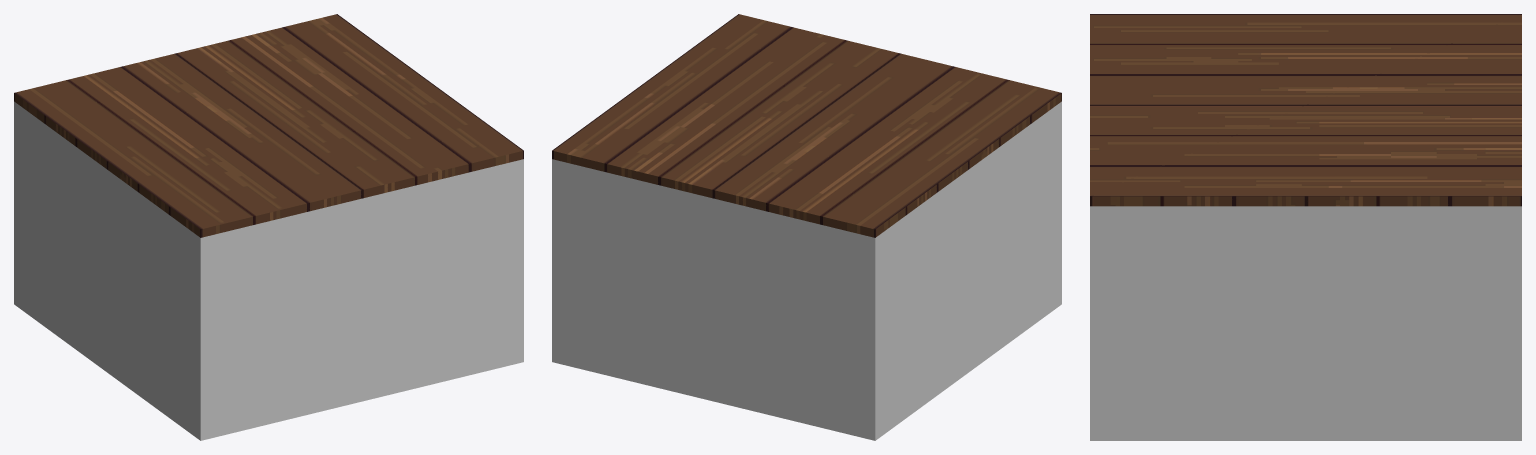
Rendered from SM_floor_02_quarter.glb.
3 renders of one model, left to right at view 1: azimuth 30°, elevation 25°; view 2: azimuth 150°, elevation 25°; view 3: azimuth 270°, elevation 25°, orthographic. The views are drawn at different scales.
Parts seen in each view (by area): view 1: SM_floor_02_quarter; view 2: SM_floor_02_quarter; view 3: SM_floor_02_quarter.
Boxes of the visible parts, x1,y1,x2,y2 form: SM_floor_02_quarter: [14, 14, 523, 440]; SM_floor_02_quarter: [552, 14, 1061, 440]; SM_floor_02_quarter: [1090, 14, 1521, 440].
Bounding box in the file's own units: 2 × 1.25 × 2.
2 materials, 1 textured.
